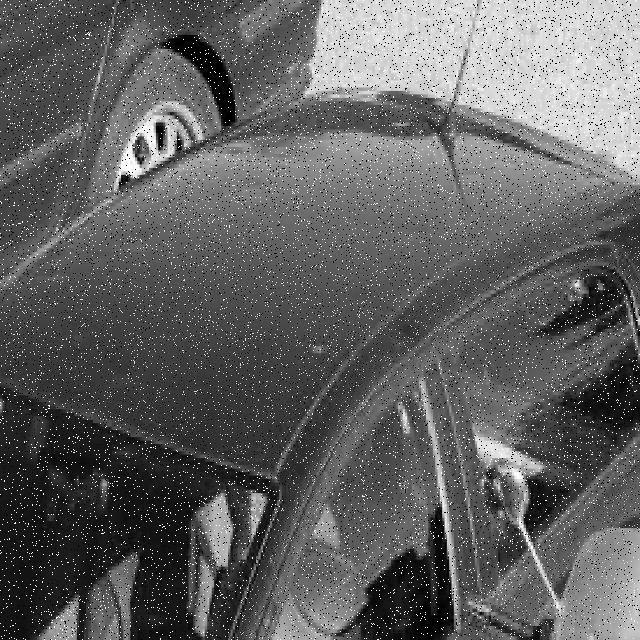roof-dent: (0, 133, 186, 448), (172, 123, 370, 410), (371, 105, 538, 280)
